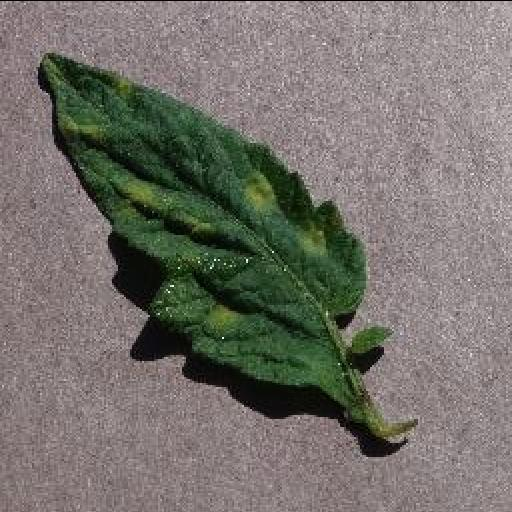disease_tomato: (38, 54, 368, 388)
